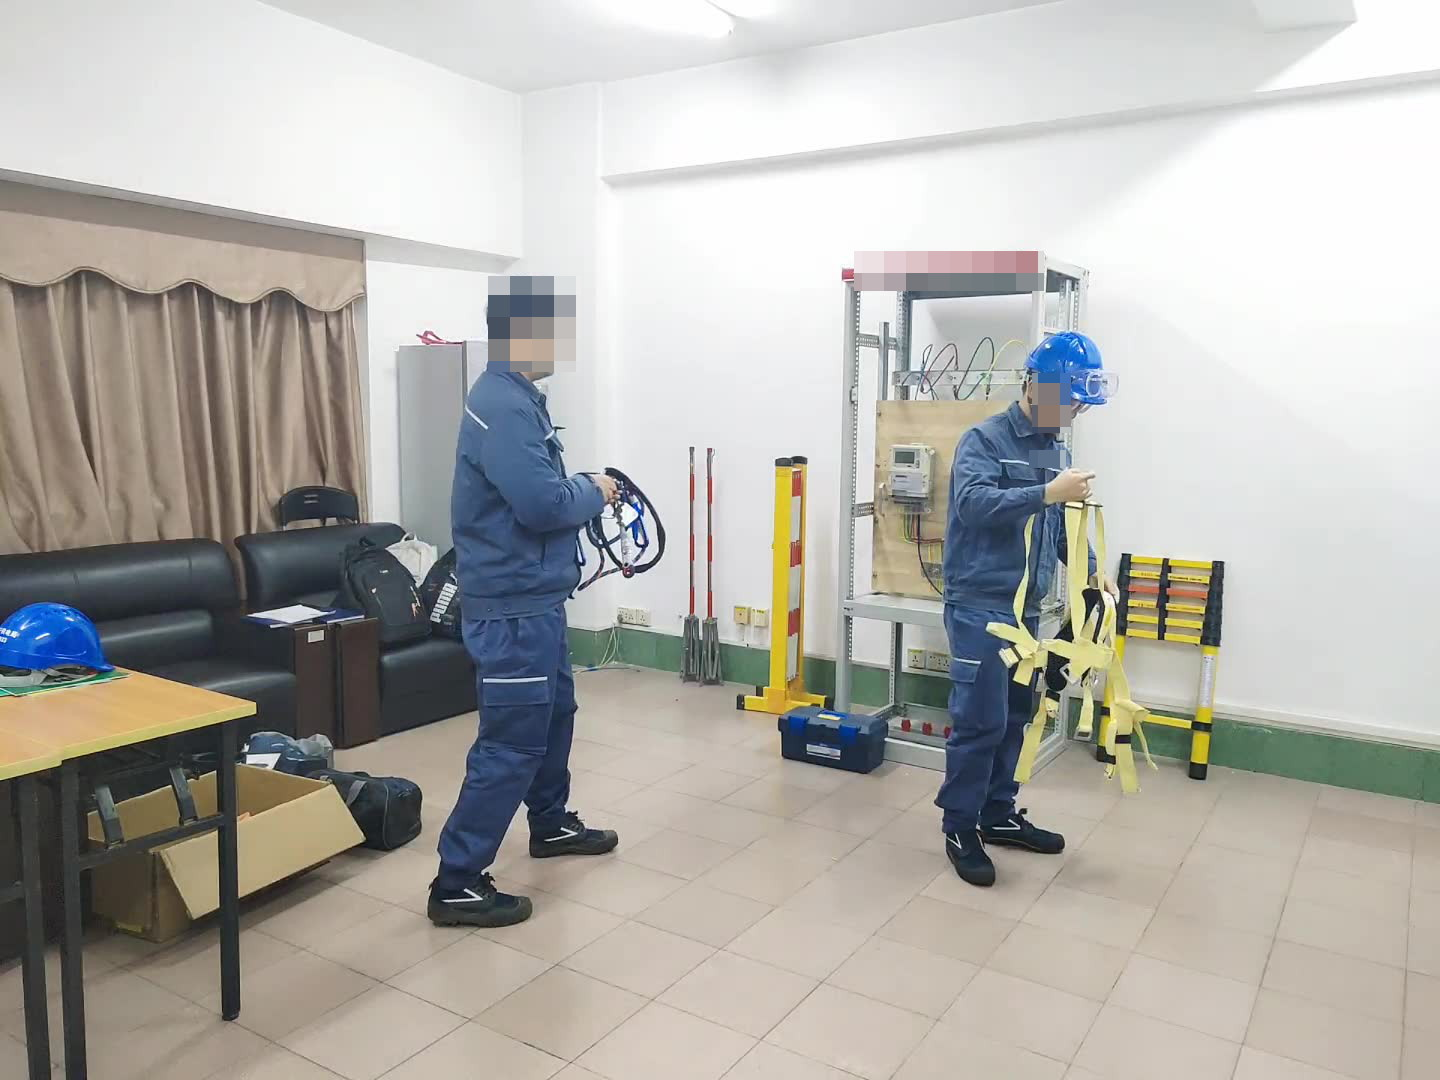downsuit: (434, 624, 587, 873), (935, 608, 1036, 829)
halt: (1021, 330, 1110, 427)
hand: (1047, 465, 1098, 509), (590, 471, 618, 504)
inear: (1023, 369, 1056, 424)
noear: (504, 318, 546, 368)
person: (428, 268, 640, 912), (930, 328, 1113, 866)
unhalt: (483, 275, 576, 379)
upsuit: (443, 359, 623, 603), (939, 400, 1067, 596)
